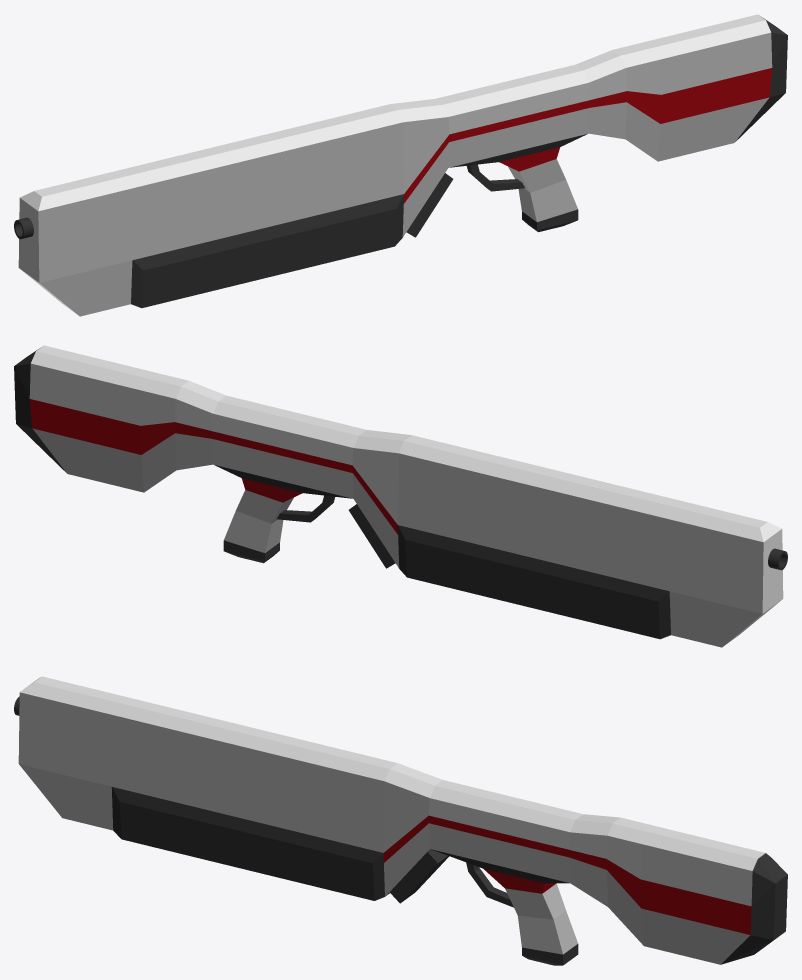
File: SimpleRifle.fbx
3 renders of one model, top to bottom at view 1: azimuth 30°, elevation 25°; view 2: azimuth 150°, elevation 25°; view 3: azimuth 330°, elevation 25°, orthographic.
Parts seen in each view (by area): view 1: Cube.002; view 2: Cube.002; view 3: Cube.002.
Part boxes in pixels (<box>): Cube.002: <box>14,14,787,316</box>; Cube.002: <box>14,345,787,647</box>; Cube.002: <box>14,676,787,965</box>.
Bounding box in the file's own units: 91.06 × 17.74 × 4.91.
